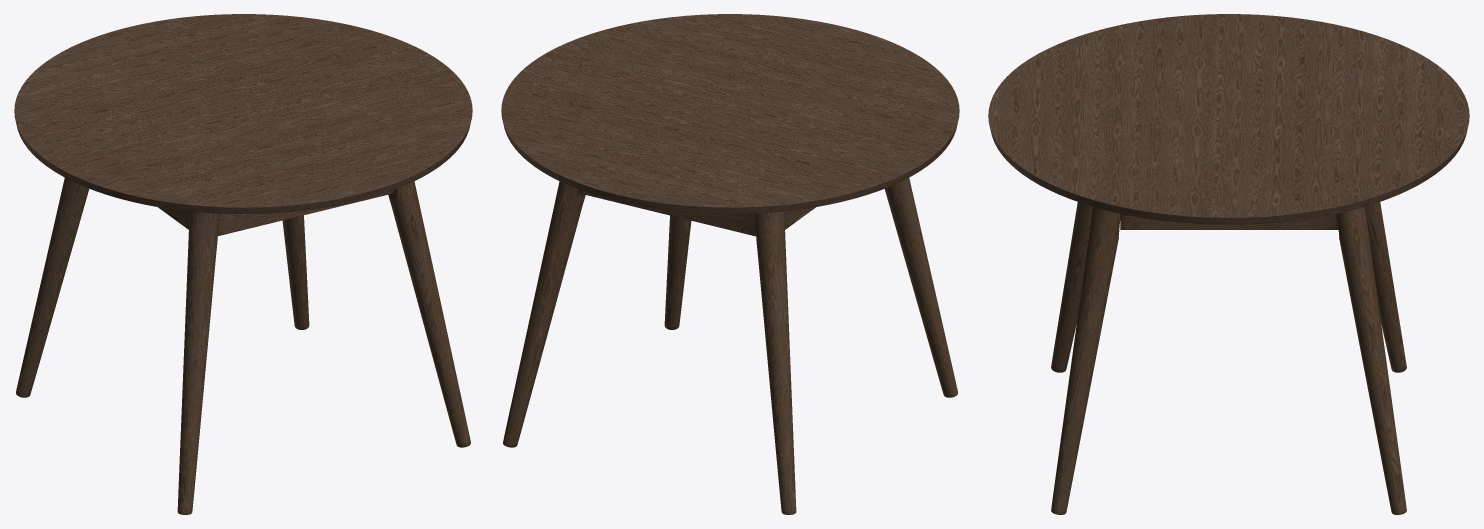
Rendered from abo_B075YV7SKC.glb.
3 renders of one model, left to right at view 1: azimuth 30°, elevation 25°; view 2: azimuth 150°, elevation 25°; view 3: azimuth 270°, elevation 25°, orthographic. The views are drawn at different scales.
Visible parts, largest first — view 1: RootNode; view 2: RootNode; view 3: RootNode.
Part boxes in pixels (x1=…): RootNode: x1=14, y1=14, x2=472, y2=514; RootNode: x1=501, y1=14, x2=959, y2=514; RootNode: x1=988, y1=14, x2=1469, y2=514.
Size of the model in its own units: 1.05 by 0.7864 by 1.05.
1 material, 1 textured.
